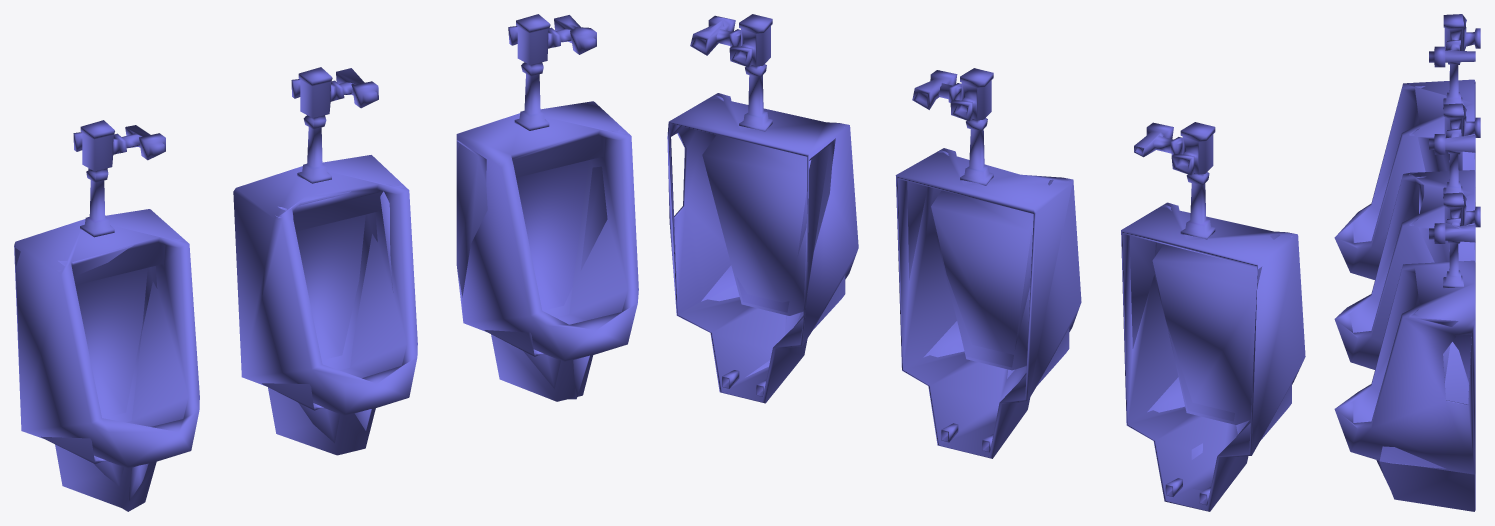
Rendered from model.progressive.glb.
3 views of the same model, side by side, from view 1: azimuth 30°, elevation 25°; view 2: azimuth 150°, elevation 25°; view 3: azimuth 270°, elevation 25° (orthographic). The views are drawn at different scales.
Visible parts, largest first — view 1: material; view 2: material; view 3: material.
Part boxes in pixels (x1=…): material: x1=14, y1=14, x2=638, y2=511; material: x1=667, y1=14, x2=1305, y2=511; material: x1=1334, y1=14, x2=1480, y2=511.
Bounding box in the file's own units: 1.89 × 1.12 × 0.4863.
Materials: 1 (1 with a texture image).
